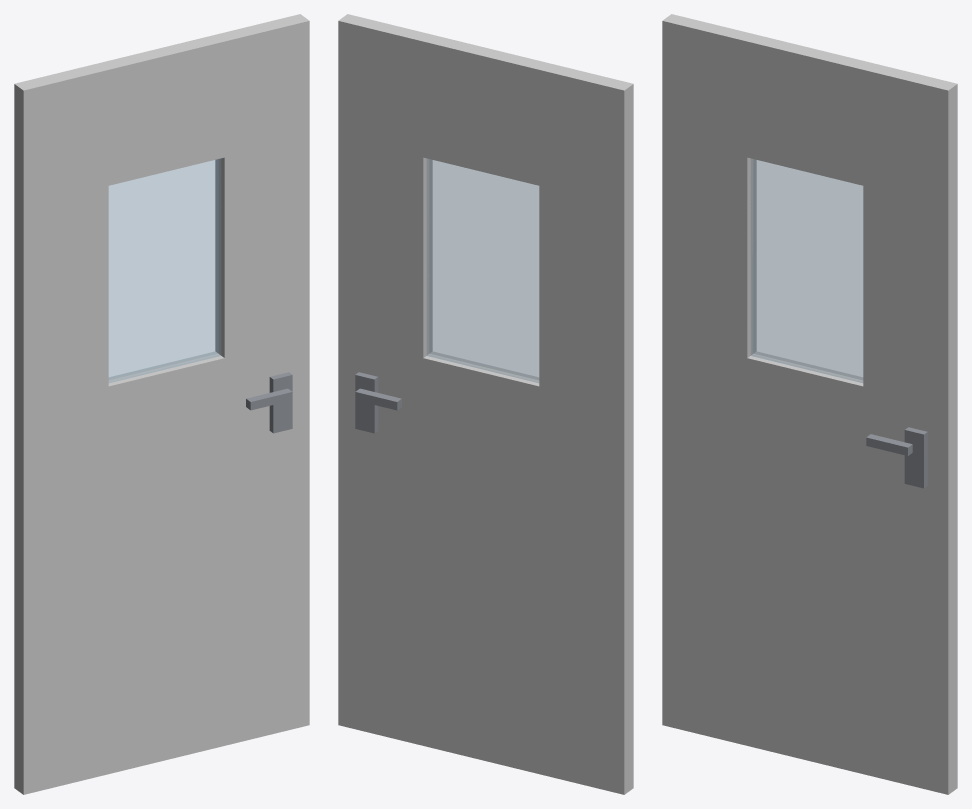
The model's file is SM_Door_office_90x210.fbx.
3 renders of one model, left to right at view 1: azimuth 30°, elevation 25°; view 2: azimuth 150°, elevation 25°; view 3: azimuth 330°, elevation 25°, orthographic.
Parts seen in each view (by area): view 1: SM_Door_office_90x210; view 2: SM_Door_office_90x210; view 3: SM_Door_office_90x210.
Boxes of the visible parts, x1,y1,x2,y2 form: SM_Door_office_90x210: (14, 14, 309, 794); SM_Door_office_90x210: (338, 14, 633, 794); SM_Door_office_90x210: (662, 14, 957, 794).
Bounding box in the file's own units: 0.888 × 2.09 × 0.175.
